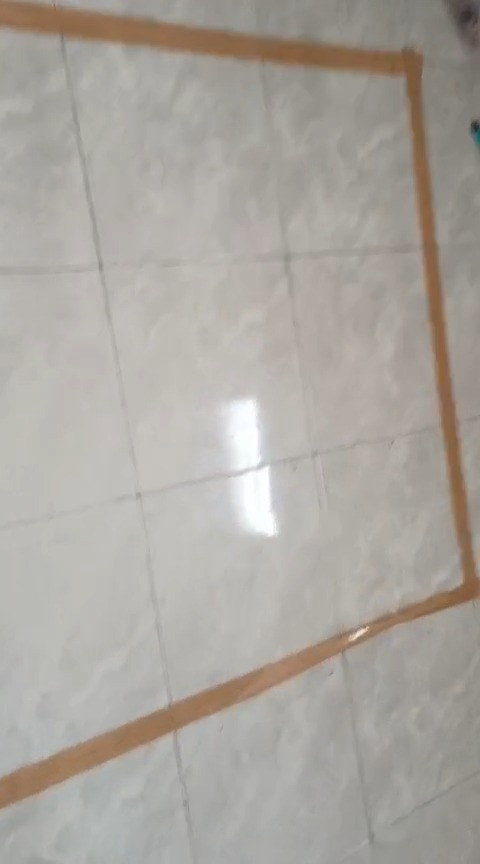floor marking: (0, 0, 479, 807)
